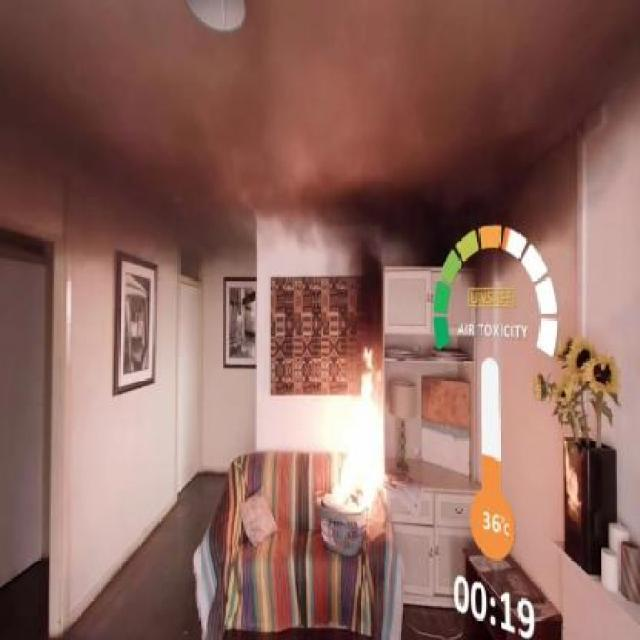fire: (300, 333, 382, 553)
smoke: (296, 147, 484, 256)
